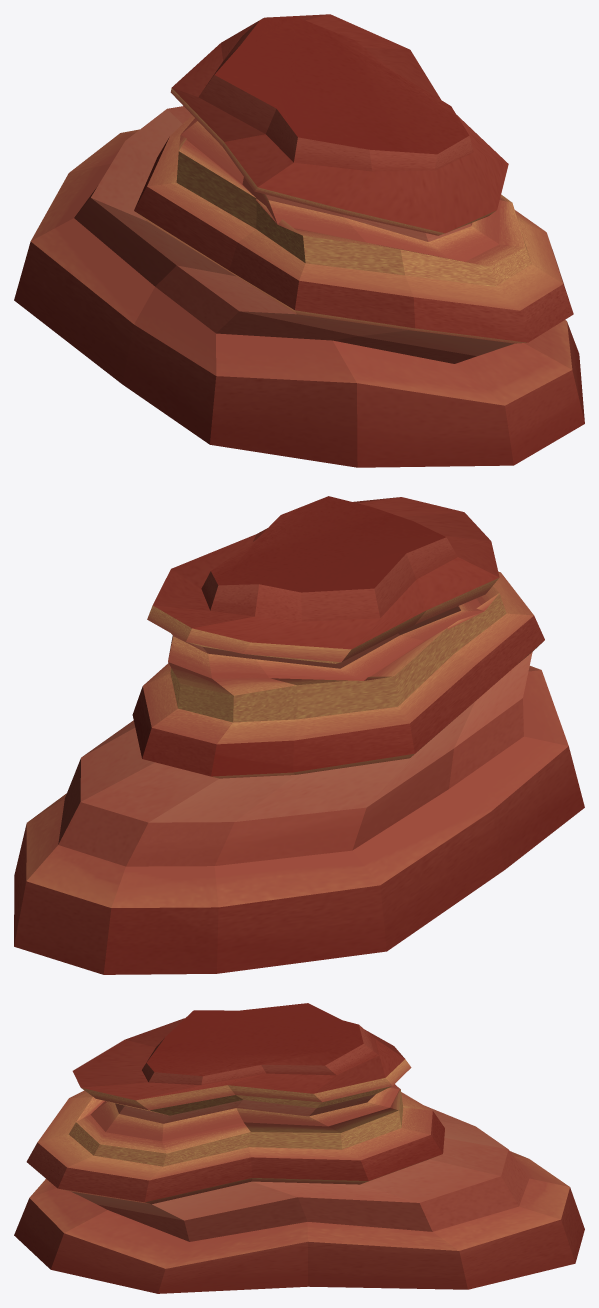
Rendered from RockB.fbx.
3 renders of one model, top to bottom at view 1: azimuth 30°, elevation 25°; view 2: azimuth 150°, elevation 25°; view 3: azimuth 270°, elevation 25°, orthographic. The views are drawn at different scales.
Parts seen in each view (by area): view 1: large rock 2; view 2: large rock 2; view 3: large rock 2.
Part boxes in pixels (x1,y1,x2,y2): large rock 2: [14, 14, 584, 467]; large rock 2: [14, 496, 584, 974]; large rock 2: [14, 1003, 584, 1293].
Size of the model in its own units: 213 by 151 by 383.
